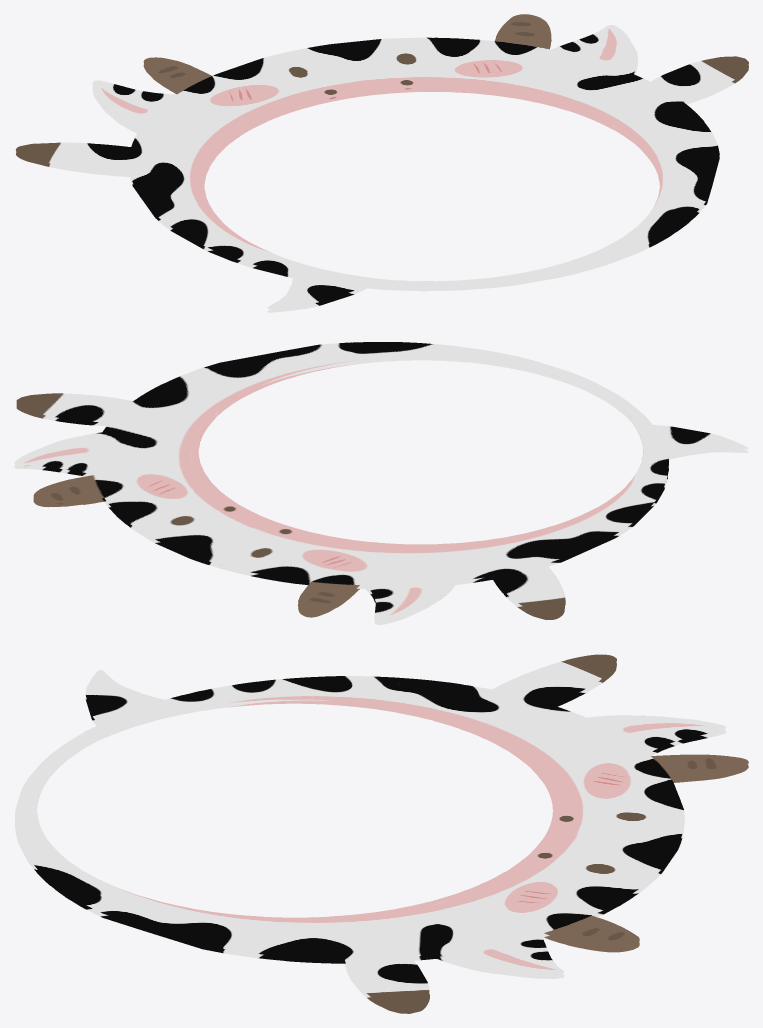
The model's file is moo3d.fbx.
3 renders of one model, top to bottom at view 1: azimuth 30°, elevation 25°; view 2: azimuth 150°, elevation 25°; view 3: azimuth 270°, elevation 25°, orthographic. The views are drawn at different scales.
Parts seen in each view (by area): view 1: Plane; view 2: Plane; view 3: Plane.
Boxes of the visible parts, left/top/right/bottom form: Plane: left=16, top=14, right=748, bottom=312; Plane: left=14, top=342, right=748, bottom=625; Plane: left=15, top=654, right=748, bottom=1013.
Size of the model in its own units: 185 by 1.04 by 162.
1 material, 1 textured.
